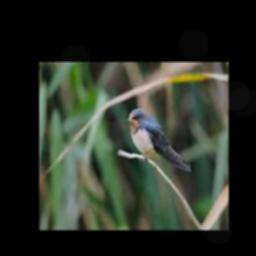Swallow: (129, 109, 193, 172)
